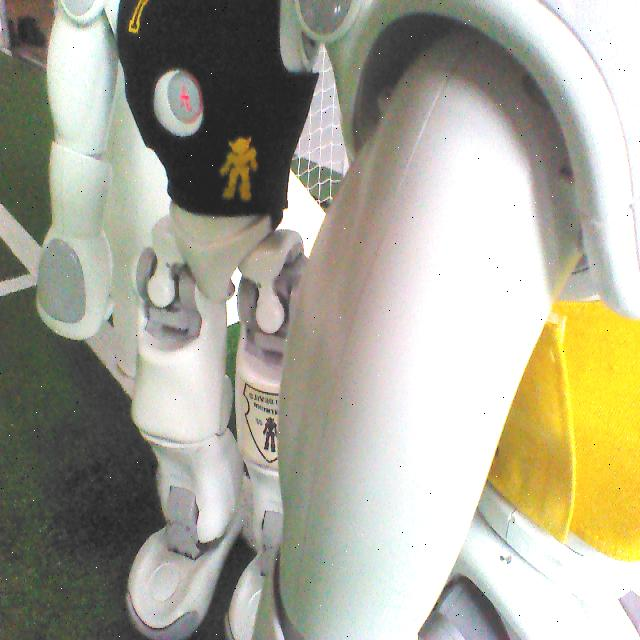goalpost: (114, 68, 169, 372)
